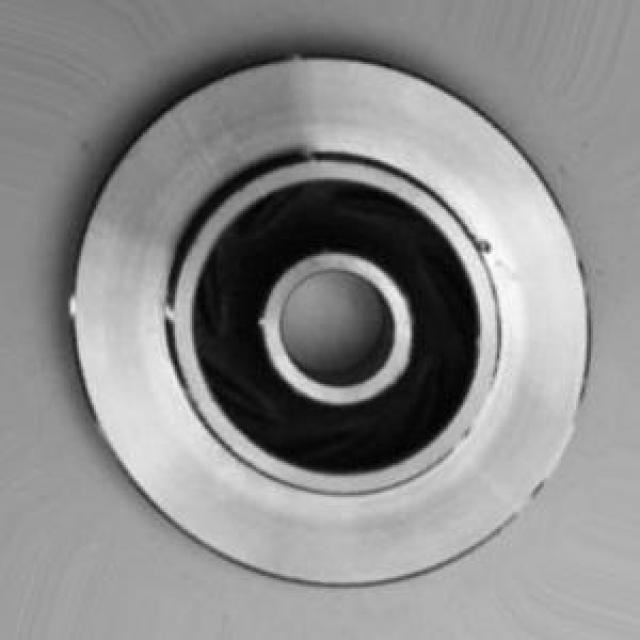Defect: (470, 236, 500, 260)
